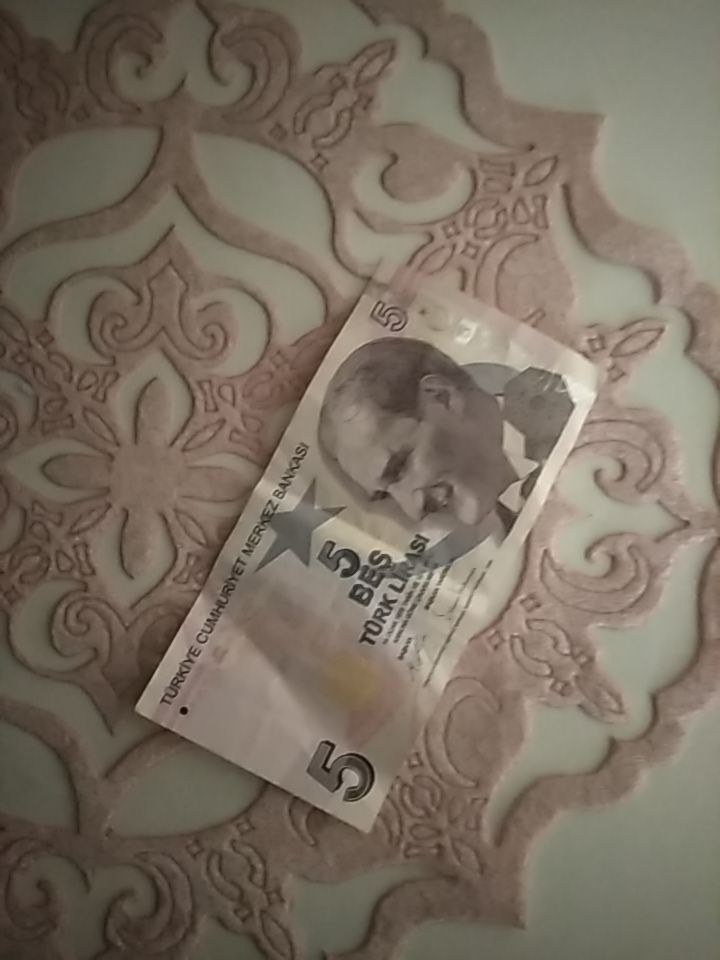5TL: (130, 252, 604, 834)
